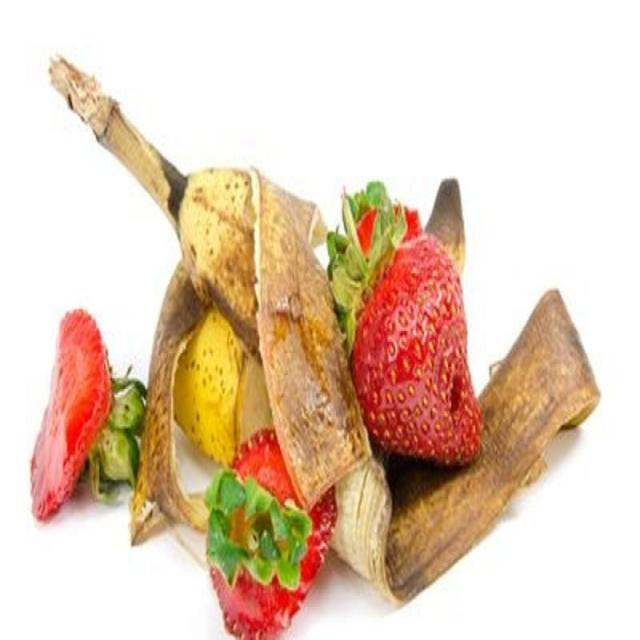organic: (28, 57, 600, 640)
